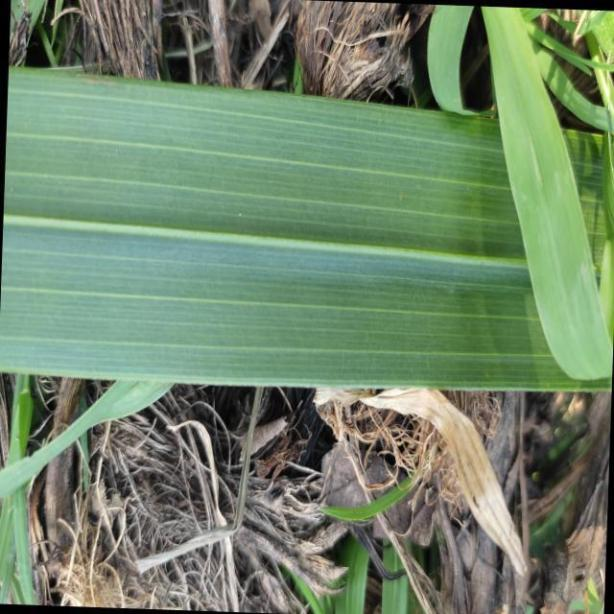Healthy: (0, 67, 614, 395)
